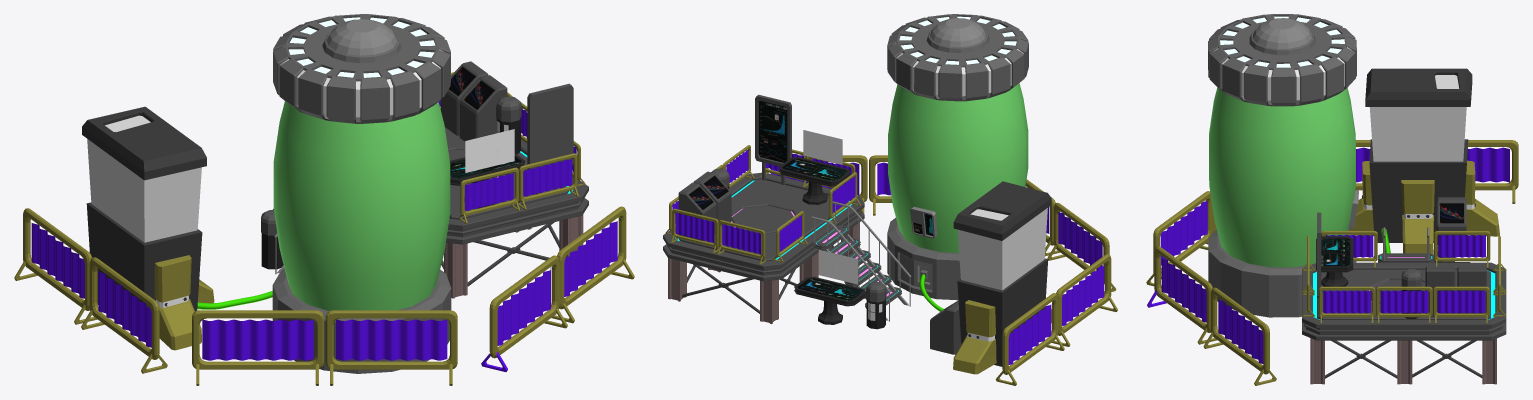
The model's file is Portion_factory_lv2.fbx.
3 renders of one model, left to right at view 1: azimuth 30°, elevation 25°; view 2: azimuth 150°, elevation 25°; view 3: azimuth 270°, elevation 25°, orthographic. The views are drawn at different scales.
Parts seen in each view (by area): view 1: Plane.007; view 2: Plane.007; view 3: Plane.007.
Part boxes in pixels (x1,y1,x2,y2): Plane.007: (14, 14, 634, 385); Plane.007: (663, 14, 1117, 385); Plane.007: (1146, 14, 1518, 385).
Bounding box in the file's own units: 1857 × 1192 × 1517.
